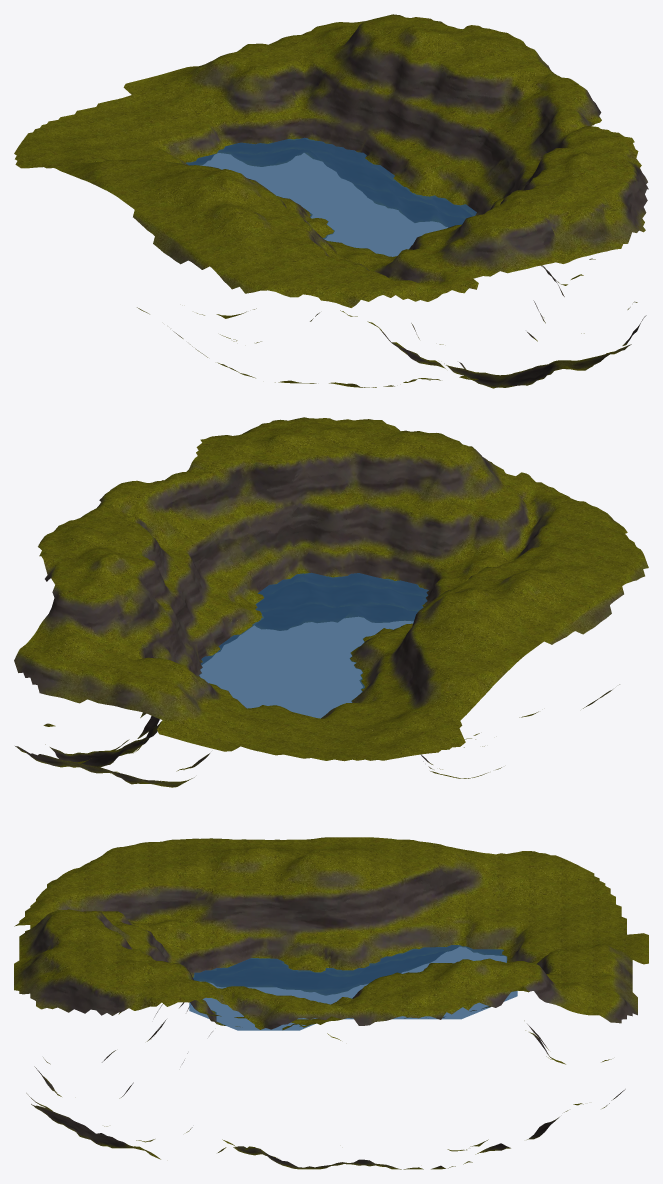
The model's file is room.glb.
3 views of the same model, one above another, from view 1: azimuth 30°, elevation 25°; view 2: azimuth 150°, elevation 25°; view 3: azimuth 270°, elevation 25° (orthographic). The views are drawn at different scales.
Visible parts, largest first — view 1: CombinedMesh, WaterSurface; view 2: CombinedMesh, WaterSurface; view 3: CombinedMesh, WaterSurface.
Boxes of the visible parts, x1,y1,x2,y2 form: CombinedMesh: (14, 14, 648, 388); WaterSurface: (186, 137, 476, 256); CombinedMesh: (14, 417, 648, 787); WaterSurface: (199, 572, 428, 718); CombinedMesh: (14, 837, 648, 1169); WaterSurface: (189, 945, 517, 1030).
Bounding box in the file's own units: 296 × 118 × 365.
Materials: 2 (1 with a texture image).
